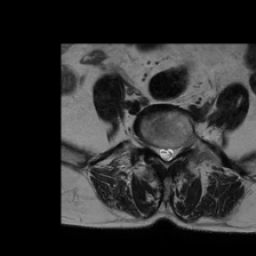CCS_stenosis: (162, 142, 168, 166)
LFS_normal: (175, 138, 183, 160)
LLS_normal: (168, 141, 175, 164)
RFS_normal: (151, 136, 156, 159)
RLS_normal: (156, 140, 162, 163)
